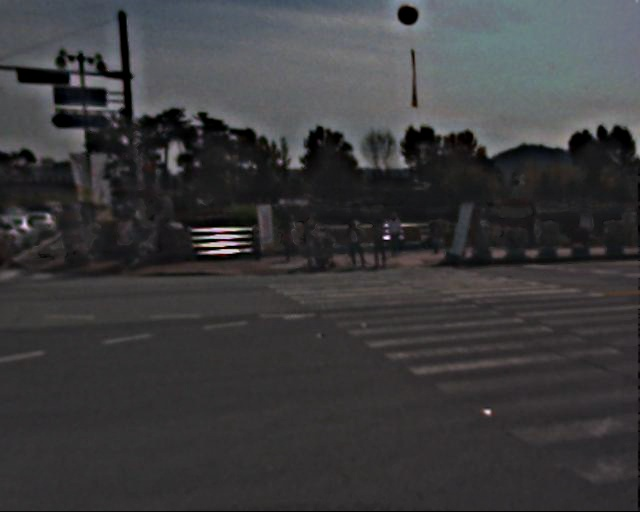person: (57, 202, 100, 268), (116, 213, 148, 266), (301, 208, 326, 269), (371, 215, 393, 269), (283, 213, 304, 263), (347, 218, 367, 267), (389, 208, 409, 256)
